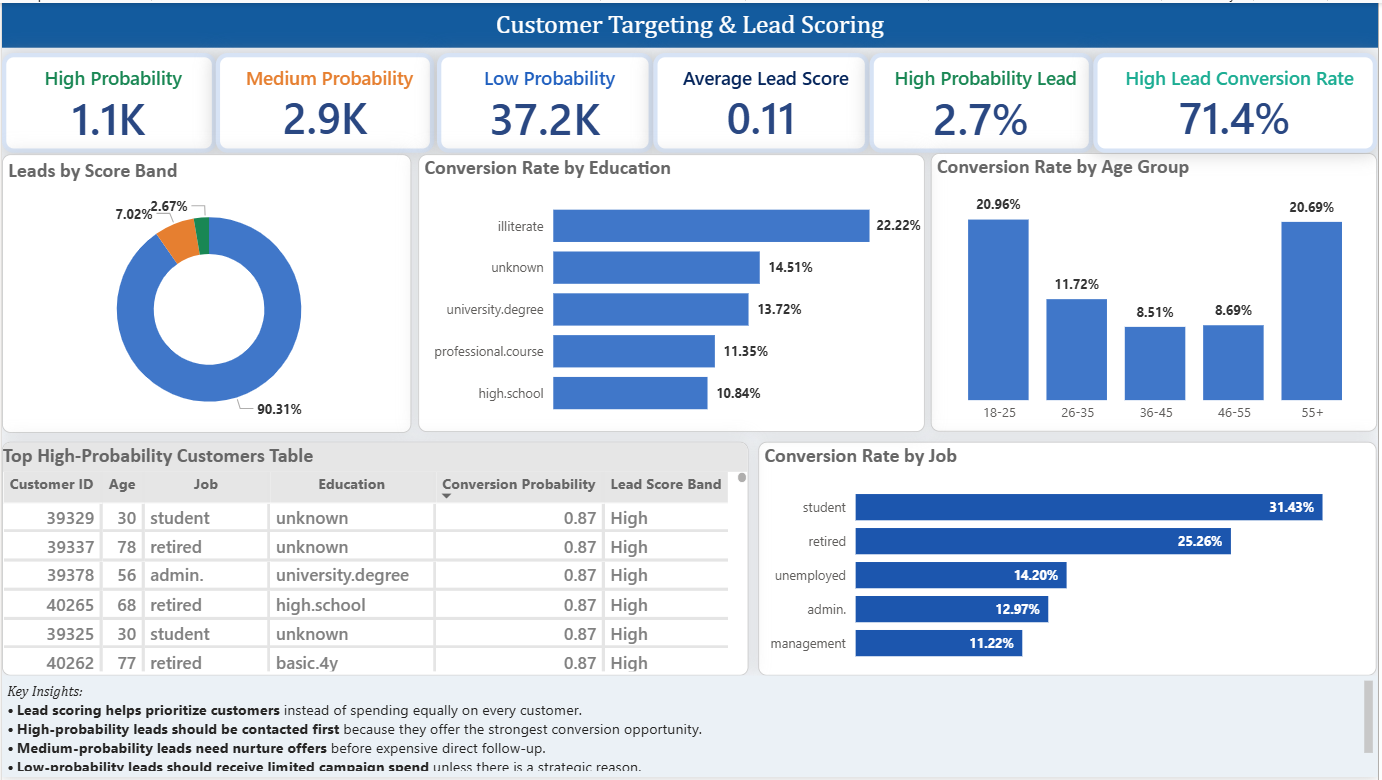

Layout of this report page (visuals, bound fields, positions):
{"tool":"powerbi","page":{"name":"Customer Targeting & Lead Scoring","canvas":[1280,720],"ordinal":1},"visuals":[{"type":"textbox","box":[0,0,1279.7,41.8],"z":0},{"type":"card","title":"High Probability","fields":{"Values":["fact_experiment.High Probability Leads"]},"box":[0,46.5,198.8,93],"z":1000},{"type":"card","title":"Medium Probability","fields":{"Values":["fact_experiment.Midium Probability Leads"]},"box":[198.8,46.5,203.5,93],"z":2000},{"type":"card","title":"Low Probability","fields":{"Values":["fact_experiment.Low Probability Leads"]},"box":[404.7,46.5,201.2,93],"z":3000},{"type":"card","title":"Average Lead Score","fields":{"Values":["fact_experiment.Average Lead Score"]},"box":[605.8,46.5,201.2,93],"z":4000},{"type":"card","title":"High Probability Lead","fields":{"Values":["fact_experiment.High Probability Lead %"]},"box":[807,46.5,208.1,93],"z":5000},{"type":"donutChart","title":"Leads by Score Band","fields":{"Category":["ml_scores.lead_score_band"],"Y":["fact_experiment.Lead Count"]},"box":[0,140.7,381,259.3],"z":6000},{"type":"clusteredColumnChart","title":"Conversion Rate by Age Group","fields":{"Category":["dim_customer.age_group"],"Y":["fact_experiment.Conversion Rate %"]},"box":[864,139.5,415.1,259.3],"z":7000},{"type":"clusteredBarChart","title":"Conversion Rate by Job","fields":{"Category":["dim_customer.job"],"Y":["fact_experiment.Conversion Rate %"]},"box":[703.5,408.1,575.6,217.4],"z":8000},{"type":"clusteredBarChart","title":"Conversion Rate by Education","fields":{"Category":["dim_customer.education"],"Y":["fact_experiment.Conversion Rate %"]},"box":[387.1,141.3,470.9,258.2],"z":9000},{"type":"tableEx","title":"Top High-Probability Customers Table","fields":{"Values":["dim_customer.customer_id","dim_customer.age","dim_customer.job","dim_customer.education","Avg(ml_scores.conversion_probability)","ml_scores.lead_score_band"]},"box":[0,408.1,694.2,217.4],"z":10000},{"type":"textbox","box":[0,625.6,1280.2,94.2],"z":11000},{"type":"card","title":"High Lead Conversion Rate","fields":{"Values":["fact_experiment.High Lead Conversion Rate %"]},"box":[1015.1,46.5,264,93],"z":12000}]}

Visuals, with their boxes in screenshot pixels (x1, y1, x2, y2), scaled from the page's 1280x720 canvas onto the 1382x780 screenshot:
textbox: {"x1": 0, "y1": 0, "x2": 1381, "y2": 45}
"High Probability" card: {"x1": 0, "y1": 50, "x2": 215, "y2": 151}
"Medium Probability" card: {"x1": 215, "y1": 50, "x2": 434, "y2": 151}
"Low Probability" card: {"x1": 437, "y1": 50, "x2": 654, "y2": 151}
"Average Lead Score" card: {"x1": 654, "y1": 50, "x2": 871, "y2": 151}
"High Probability Lead" card: {"x1": 871, "y1": 50, "x2": 1096, "y2": 151}
"Leads by Score Band" donutChart: {"x1": 0, "y1": 152, "x2": 411, "y2": 433}
"Conversion Rate by Age Group" clusteredColumnChart: {"x1": 933, "y1": 151, "x2": 1381, "y2": 432}
"Conversion Rate by Job" clusteredBarChart: {"x1": 760, "y1": 442, "x2": 1381, "y2": 678}
"Conversion Rate by Education" clusteredBarChart: {"x1": 418, "y1": 153, "x2": 926, "y2": 433}
"Top High-Probability Customers Table" tableEx: {"x1": 0, "y1": 442, "x2": 750, "y2": 678}
textbox: {"x1": 0, "y1": 678, "x2": 1381, "y2": 779}
"High Lead Conversion Rate" card: {"x1": 1096, "y1": 50, "x2": 1381, "y2": 151}
